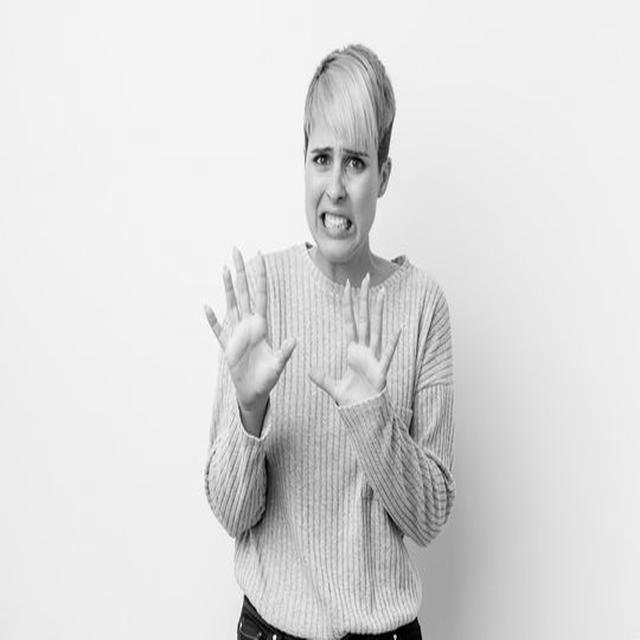Disgust: (304, 111, 378, 264)
